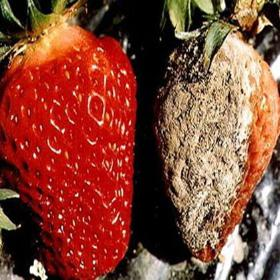Gray Mold: (154, 19, 279, 262)
